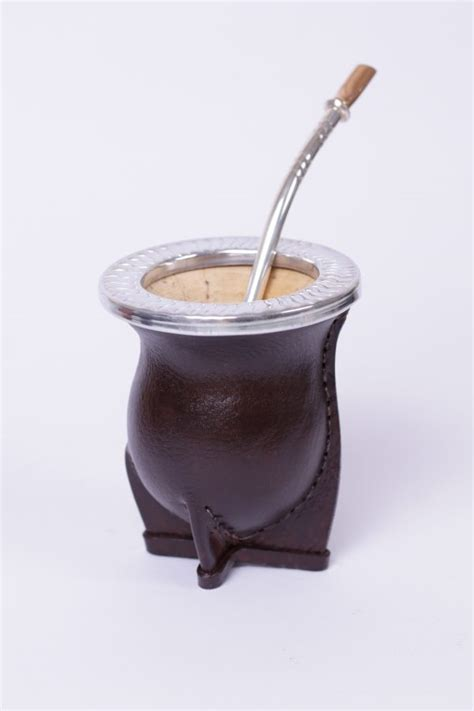cuero: (121, 317, 351, 593)
